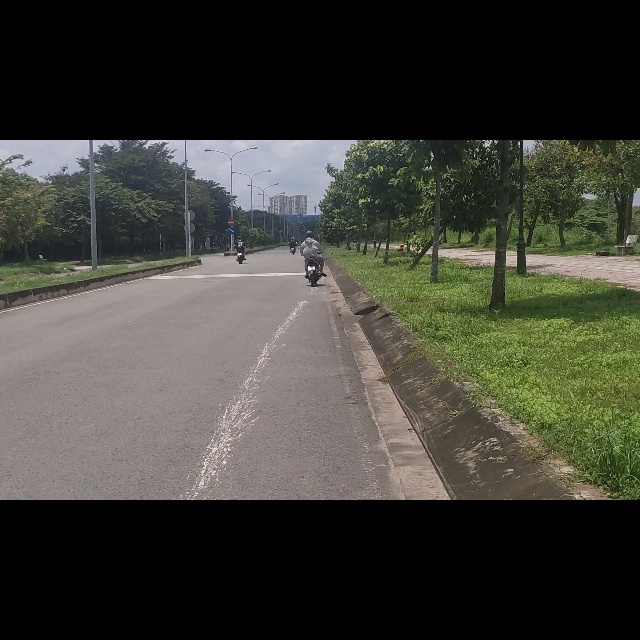bien_hieu_lenh: (227, 154, 235, 167), (228, 138, 235, 152)
